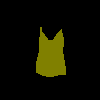canottiera: (36, 26, 66, 77)
